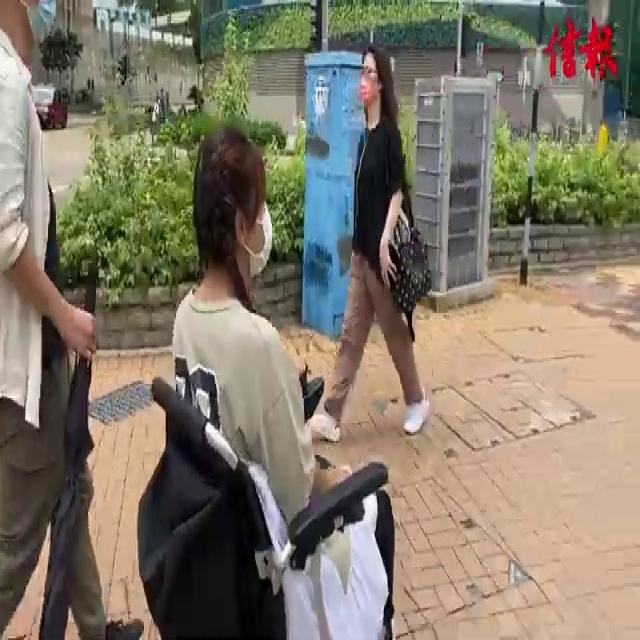wheelchairs: (123, 340, 419, 640)
